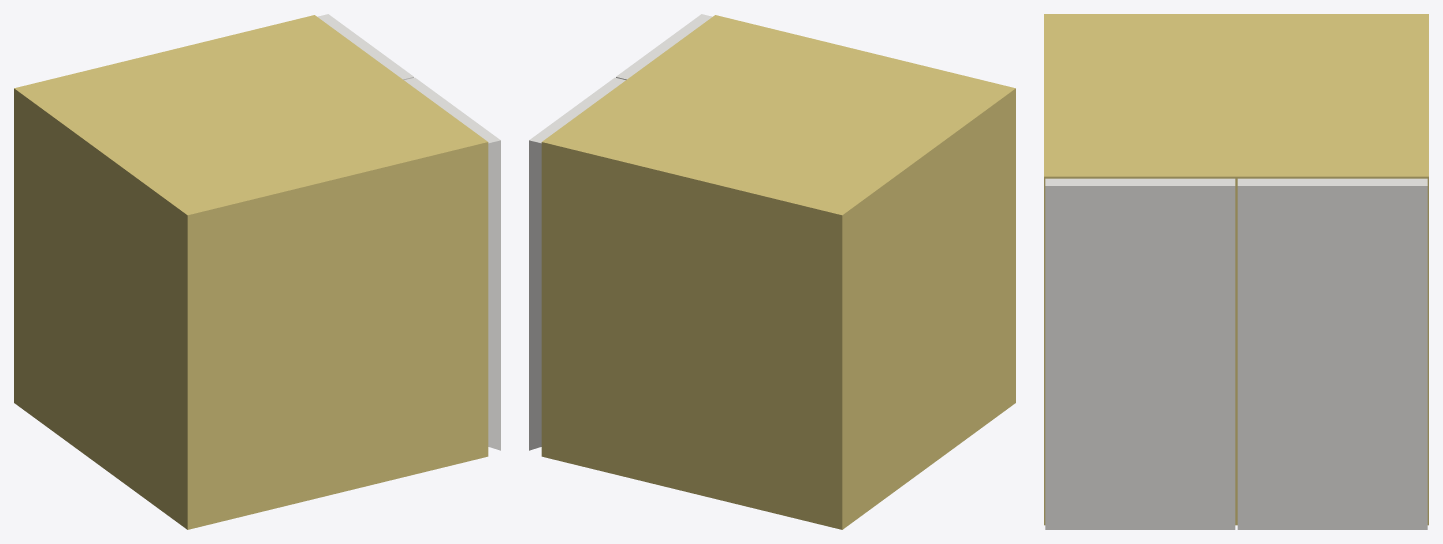
Rendered from Cabinet4.fbx.
3 views of the same model, side by side, from view 1: azimuth 30°, elevation 25°; view 2: azimuth 150°, elevation 25°; view 3: azimuth 270°, elevation 25° (orthographic). The views are drawn at different scales.
Parts seen in each view (by area): view 1: polySurface210; view 2: polySurface210; view 3: polySurface210.
Boxes of the visible parts, x1,y1,x2,y2 form: polySurface210: (14, 14, 500, 529); polySurface210: (529, 14, 1015, 529); polySurface210: (1044, 14, 1428, 529).
Size of the model in its own units: 104 by 100 by 100.
